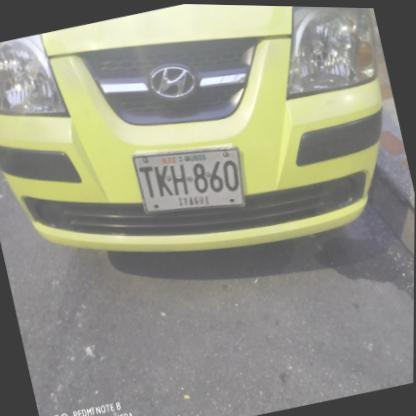placa: (126, 126, 254, 232)
